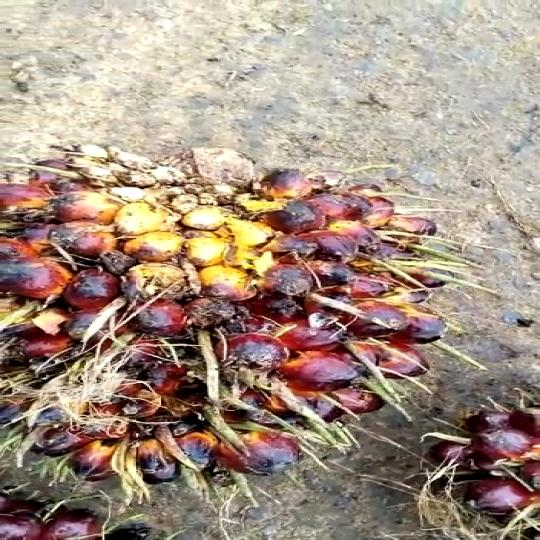kurang masak: (0, 148, 457, 497)
